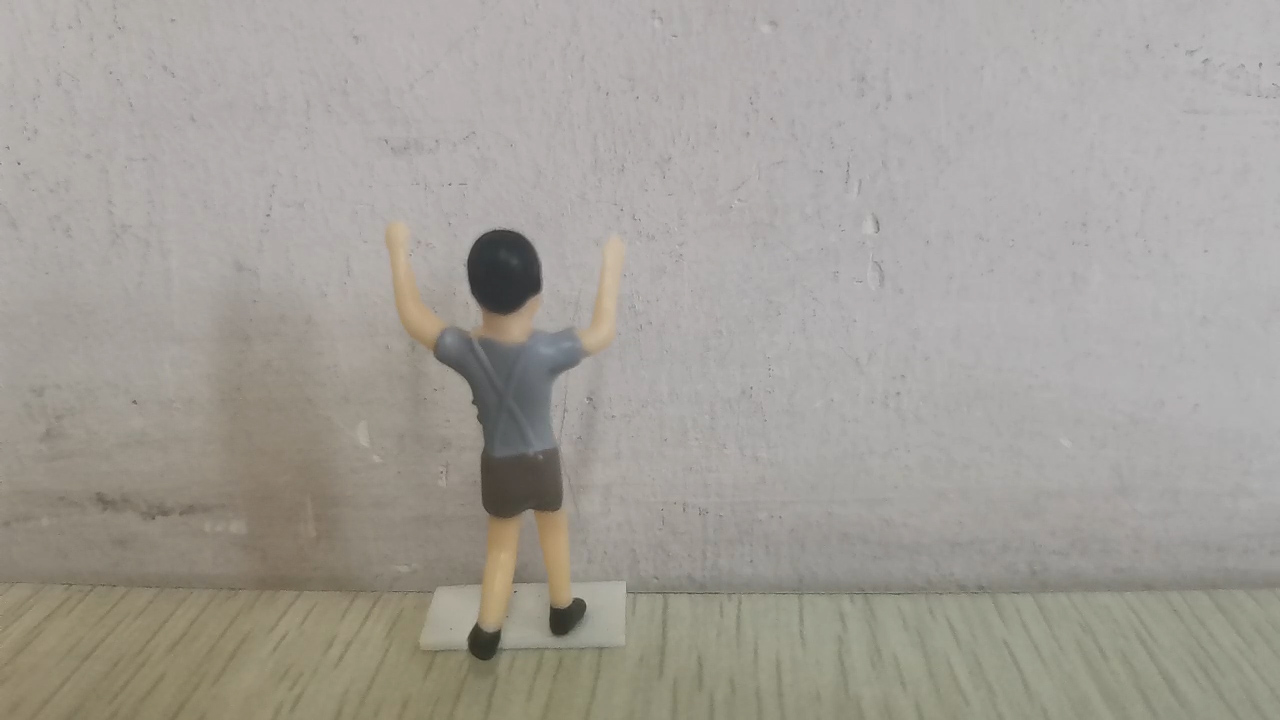person: (377, 216, 630, 662)
